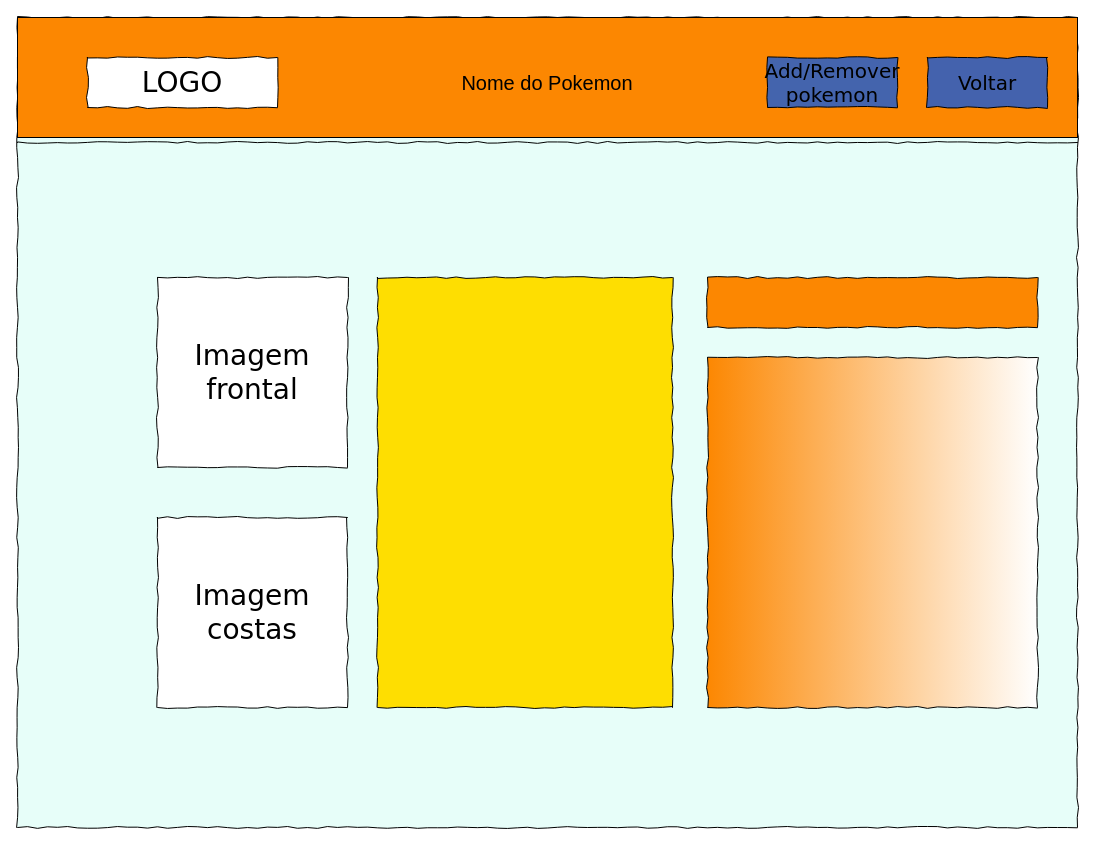
Image size: 1095x845. Some labels were removed from this diagram. The centre of each missing label's shape, as x and y in pixels:
"Movimentos Movimento 1 Movimento 2 Movimento 3" goes at point 872,532.
"Stats HP: Defesa: Ataque: Ataque especial: Defesa especial: velocidade:" goes at point 524,492.
"Tipo 1 Tipo 2" goes at point 872,302.
